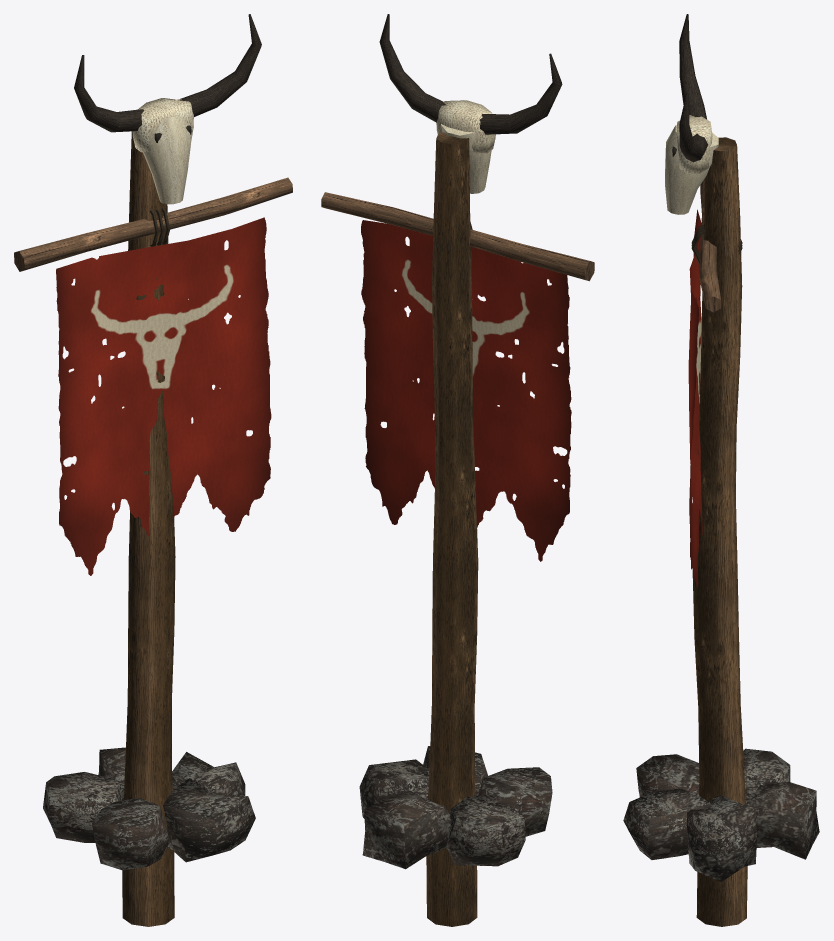
The model's file is SM_Bld_Stone_Banner.gltf.
The picture shows the model from 3 angles, left to right: view 1: azimuth 30°, elevation 25°; view 2: azimuth 150°, elevation 25°; view 3: azimuth 270°, elevation 25°; orthographic projection. The views are drawn at different scales.
Visible parts, largest first — view 1: SM_Bld_Stone_Banner; view 2: SM_Bld_Stone_Banner; view 3: SM_Bld_Stone_Banner.
Boxes of the visible parts, x1=… form: SM_Bld_Stone_Banner: x1=14, y1=14, x2=292, y2=926; SM_Bld_Stone_Banner: x1=321, y1=14, x2=594, y2=926; SM_Bld_Stone_Banner: x1=623, y1=14, x2=819, y2=926.
Size of the model in its own units: 1.71 by 5.37 by 1.11.
Materials: 8 (7 with a texture image).
